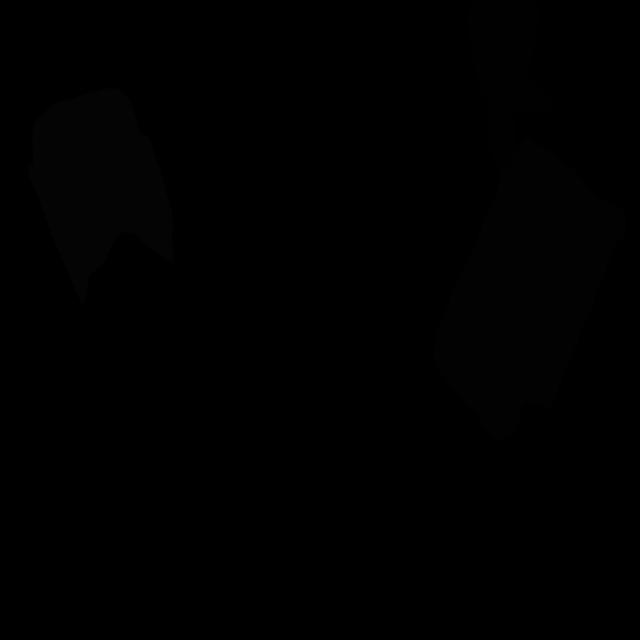cardboard: (432, 137, 626, 441)
rigid_plastic: (467, 0, 558, 177)
soft_plastic: (27, 88, 175, 308)
